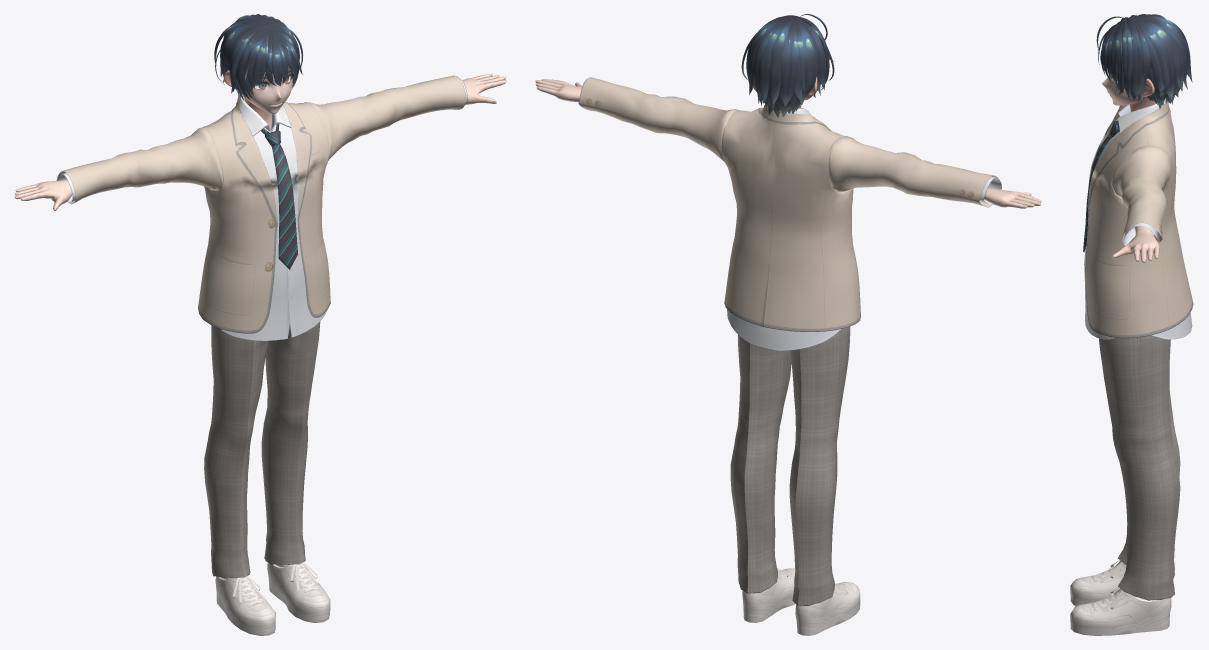
The picture shows the model from 3 angles, left to right: view 1: azimuth 30°, elevation 25°; view 2: azimuth 150°, elevation 25°; view 3: azimuth 270°, elevation 25°; orthographic projection. The views are drawn at different scales.
Visible parts, largest first — view 1: Body, Hair, Face; view 2: Body, Hair; view 3: Body, Hair, Face.
Part boxes in pixels (x1,y1,x2,y2): Body: (14, 50, 506, 635); Hair: (214, 14, 302, 100); Face: (223, 66, 293, 114); Body: (535, 69, 1041, 635); Hair: (741, 14, 834, 117); Body: (1070, 76, 1193, 635); Hair: (1096, 14, 1192, 108); Face: (1102, 74, 1154, 105).
Size of the model in its own units: 1.5 by 1.7 by 0.3211.
Materials: 17 (17 with a texture image).
